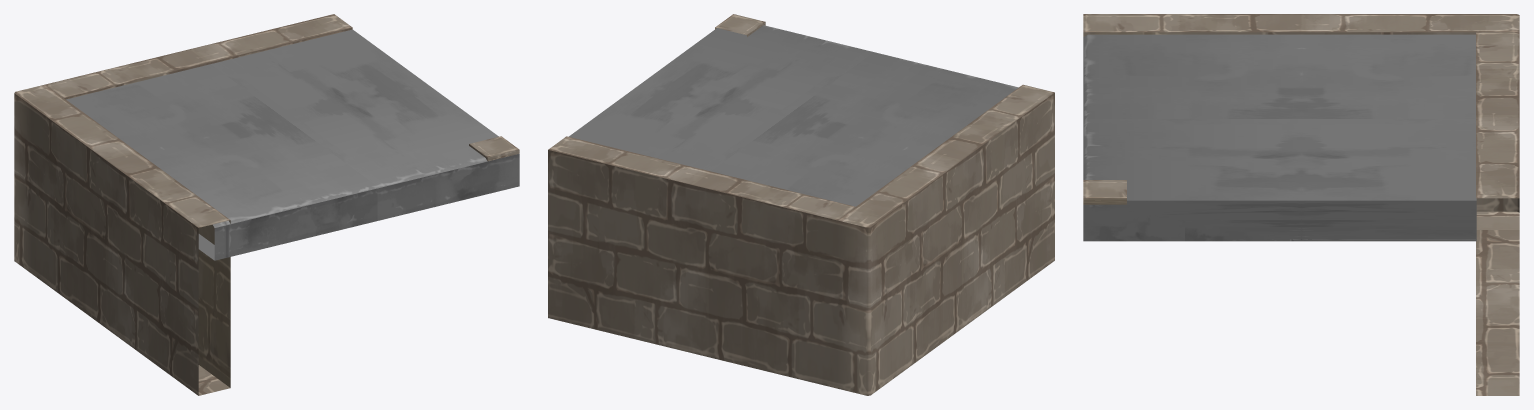
The model's file is Stairs_Exterior_Platform45.gltf.
3 renders of one model, left to right at view 1: azimuth 30°, elevation 25°; view 2: azimuth 150°, elevation 25°; view 3: azimuth 270°, elevation 25°, orthographic. The views are drawn at different scales.
Visible parts, largest first — view 1: Stairs_Exterior_Platform45; view 2: Stairs_Exterior_Platform45; view 3: Stairs_Exterior_Platform45.
Part boxes in pixels (left/top/right/bottom): Stairs_Exterior_Platform45: left=14, top=14, right=519, bottom=395; Stairs_Exterior_Platform45: left=548, top=14, right=1054, bottom=395; Stairs_Exterior_Platform45: left=1083, top=14, right=1519, bottom=395.
Size of the model in its own units: 2 by 1 by 2.
2 materials, 2 textured.
